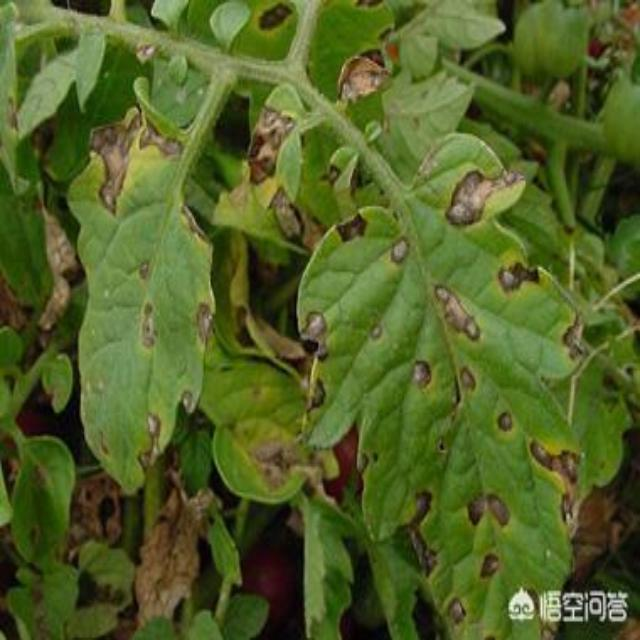Early_blight: (133, 479, 209, 628), (82, 107, 183, 217), (242, 436, 338, 507), (525, 430, 585, 542), (442, 163, 523, 230), (37, 207, 78, 332), (240, 100, 297, 186), (232, 303, 305, 364), (268, 188, 330, 252), (74, 472, 123, 547), (433, 279, 481, 343), (407, 489, 440, 580), (336, 54, 391, 106), (462, 488, 513, 533), (296, 302, 331, 364), (493, 252, 543, 293), (139, 409, 170, 472), (559, 311, 589, 361), (254, 2, 295, 35), (332, 210, 370, 243), (301, 375, 326, 424), (139, 303, 163, 349), (191, 301, 217, 341), (406, 357, 435, 391), (477, 551, 505, 586), (443, 597, 473, 626), (388, 235, 411, 264), (457, 364, 479, 393), (137, 256, 156, 281), (497, 406, 514, 433)
